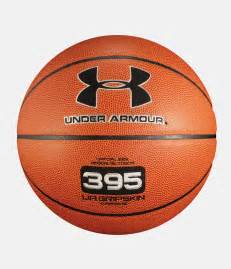basketball: (15, 34, 220, 239)
